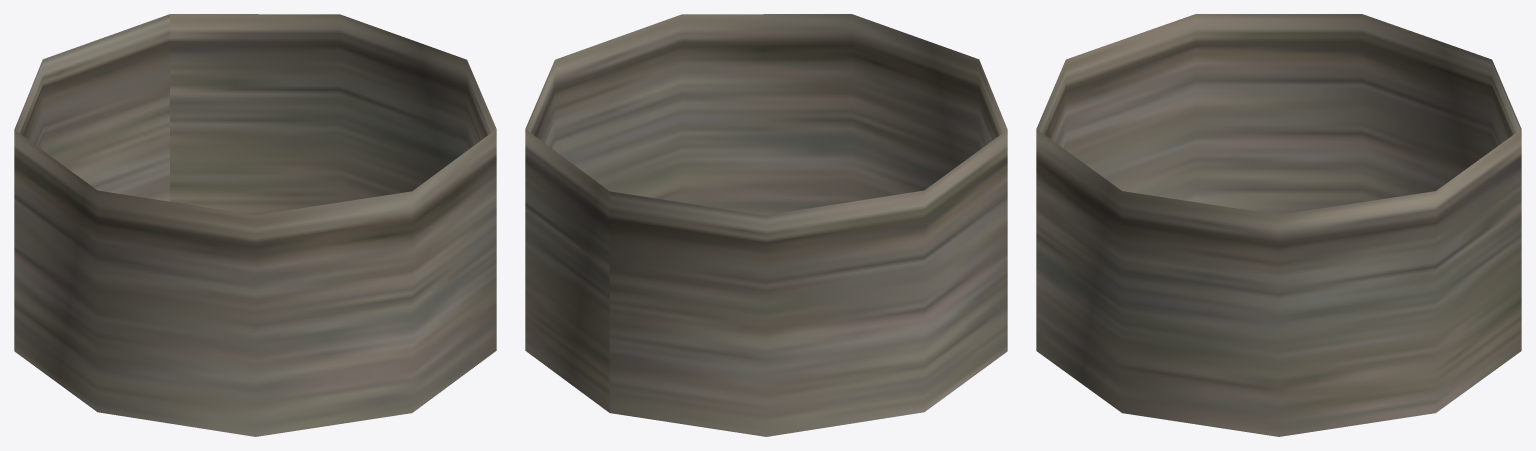
The model's file is M5_Pot03.glb.
The picture shows the model from 3 angles, left to right: view 1: azimuth 30°, elevation 25°; view 2: azimuth 150°, elevation 25°; view 3: azimuth 270°, elevation 25°; orthographic projection.
Parts seen in each view (by area): view 1: M5_POT03; view 2: M5_POT03; view 3: M5_POT03.
Boxes of the visible parts, x1,y1,x2,y2 form: M5_POT03: [14, 14, 496, 436]; M5_POT03: [525, 14, 1007, 436]; M5_POT03: [1036, 14, 1521, 436].
Size of the model in its own units: 0.194 by 0.1 by 0.198.
Materials: 1 (1 with a texture image).
